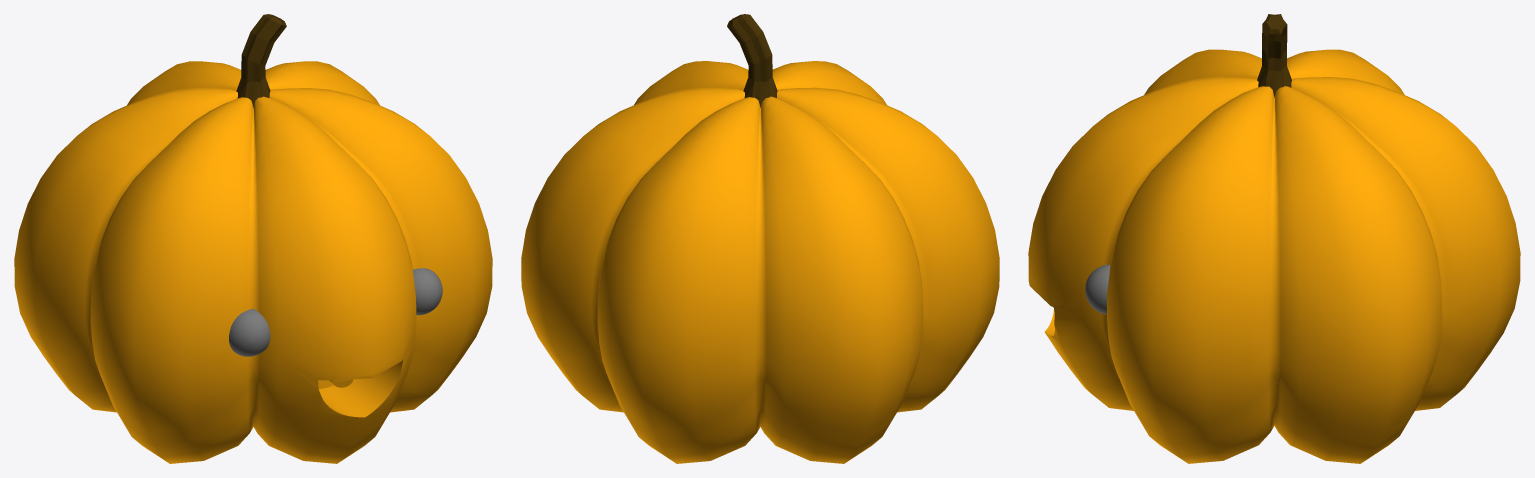
Rendered from pumpkin.fbx.
3 views of the same model, side by side, from view 1: azimuth 30°, elevation 25°; view 2: azimuth 150°, elevation 25°; view 3: azimuth 270°, elevation 25° (orthographic). The views are drawn at different scales.
Parts seen in each view (by area): view 1: punpkin, stem, rEye, lEye; view 2: punpkin, stem; view 3: punpkin, stem, lEye.
Boxes of the visible parts, left/top/right/bottom form: punpkin: left=14, top=61, right=492, bottom=463; stem: left=236, top=14, right=286, bottom=107; rEye: left=229, top=308, right=270, bottom=356; lEye: left=413, top=268, right=442, bottom=315; punpkin: left=521, top=61, right=999, bottom=463; stem: left=727, top=14, right=777, bottom=107; punpkin: left=1028, top=49, right=1520, bottom=463; stem: left=1257, top=14, right=1291, bottom=97; lEye: left=1085, top=264, right=1110, bottom=314.
Size of the model in its own units: 1.74 by 1.74 by 1.95.
